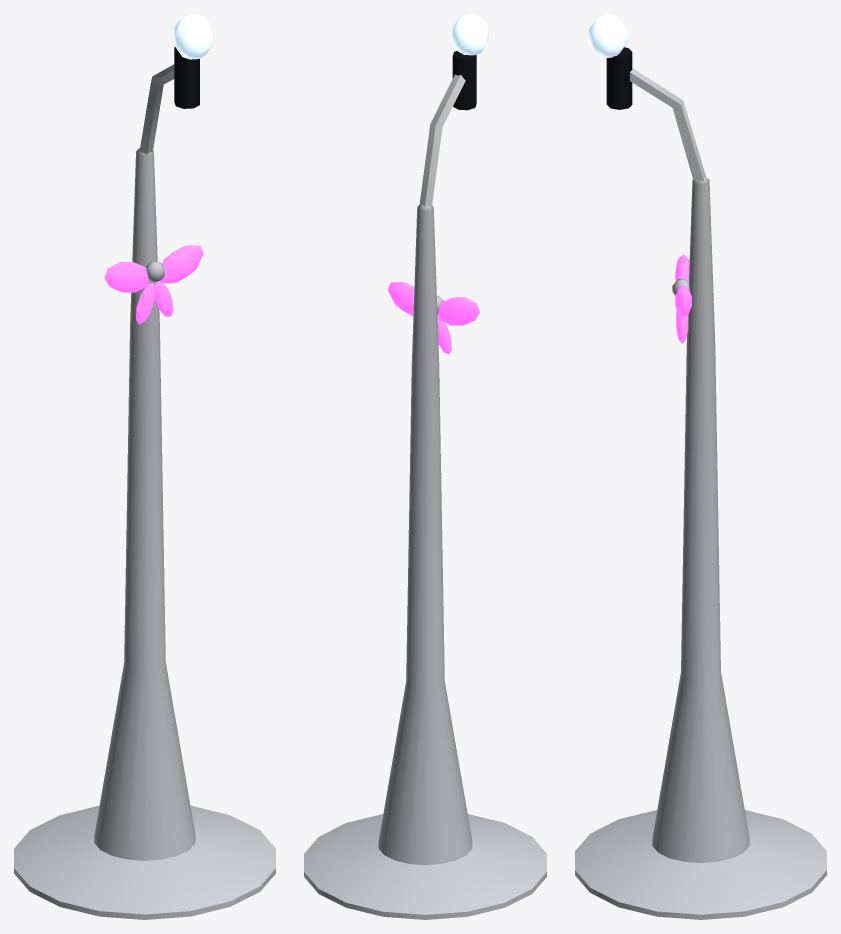
Rendered from mic_stand_stage.glb.
The picture shows the model from 3 angles, left to right: view 1: azimuth 30°, elevation 25°; view 2: azimuth 150°, elevation 25°; view 3: azimuth 270°, elevation 25°; orthographic projection. The views are drawn at different scales.
Visible parts, largest first — view 1: mic_stand_stage; view 2: mic_stand_stage; view 3: mic_stand_stage.
Part boxes in pixels (x1,y1,x2,y2): mic_stand_stage: (14,14,275,919); mic_stand_stage: (304,14,546,919); mic_stand_stage: (575,14,826,919).
Bounding box in the file's own units: 0.44 × 1.62 × 0.4333.
